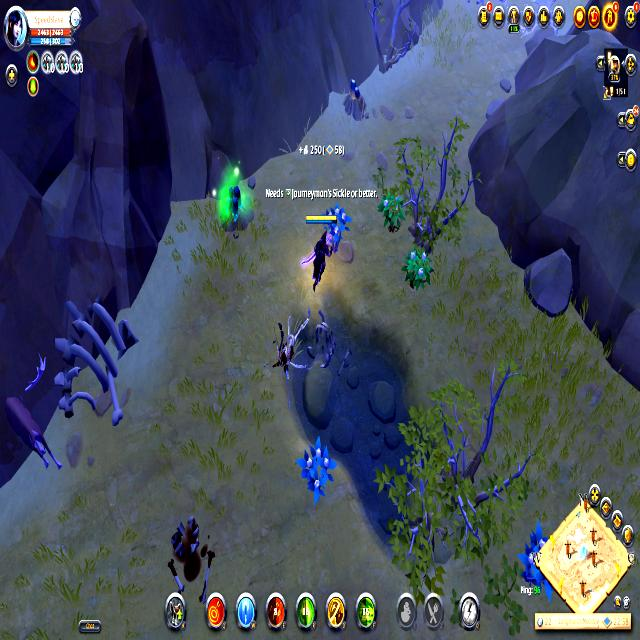hide: (516, 517, 556, 604), (298, 434, 335, 502), (321, 193, 354, 254), (403, 244, 431, 298), (379, 185, 404, 238)
ore: (0, 352, 66, 483)
player: (213, 172, 258, 238), (341, 74, 370, 130)
red: (302, 211, 335, 293)
